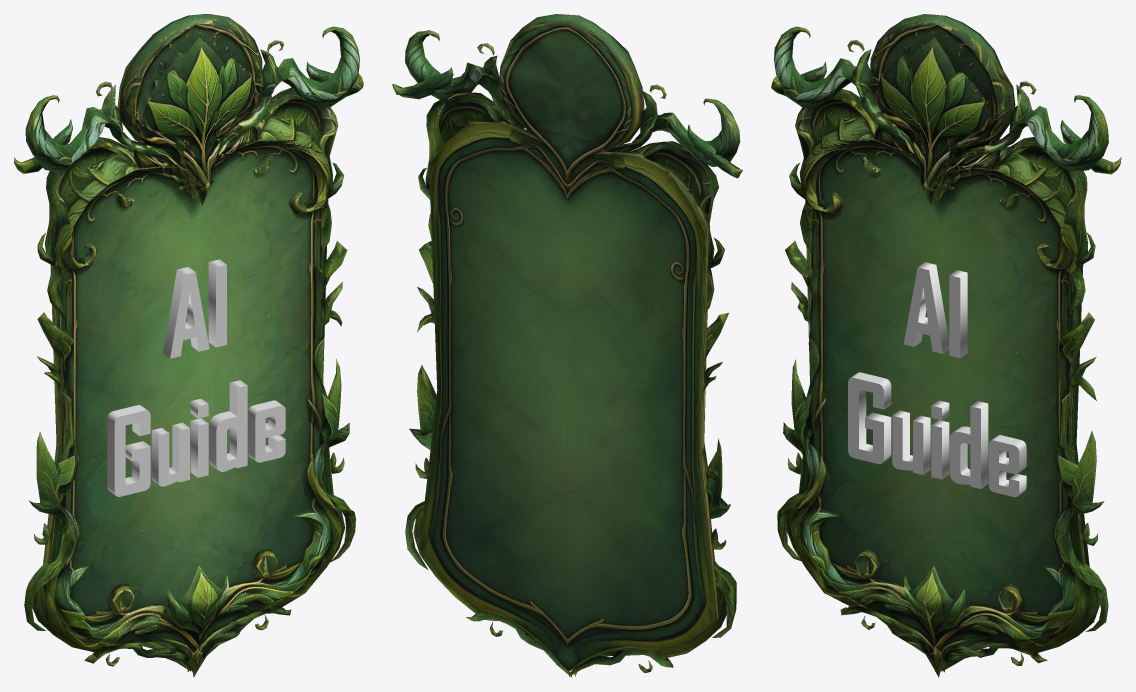
File: plaque_ai_guide.glb
The picture shows the model from 3 angles, left to right: view 1: azimuth 30°, elevation 25°; view 2: azimuth 150°, elevation 25°; view 3: azimuth 330°, elevation 25°; orthographic projection.
Visible parts, largest first — view 1: mesh_node, Tekst; view 2: mesh_node; view 3: mesh_node, Tekst.
Part boxes in pixels (<box>): mesh_node: <box>14,14,363,677</box>; Tekst: <box>107,259,285,496</box>; mesh_node: <box>392,14,742,677</box>; mesh_node: <box>771,14,1121,677</box>; Tekst: <box>848,262,1026,497</box>.
Bounding box in the file's own units: 0.5488 × 1 × 0.0679.
2 materials, 1 textured.
